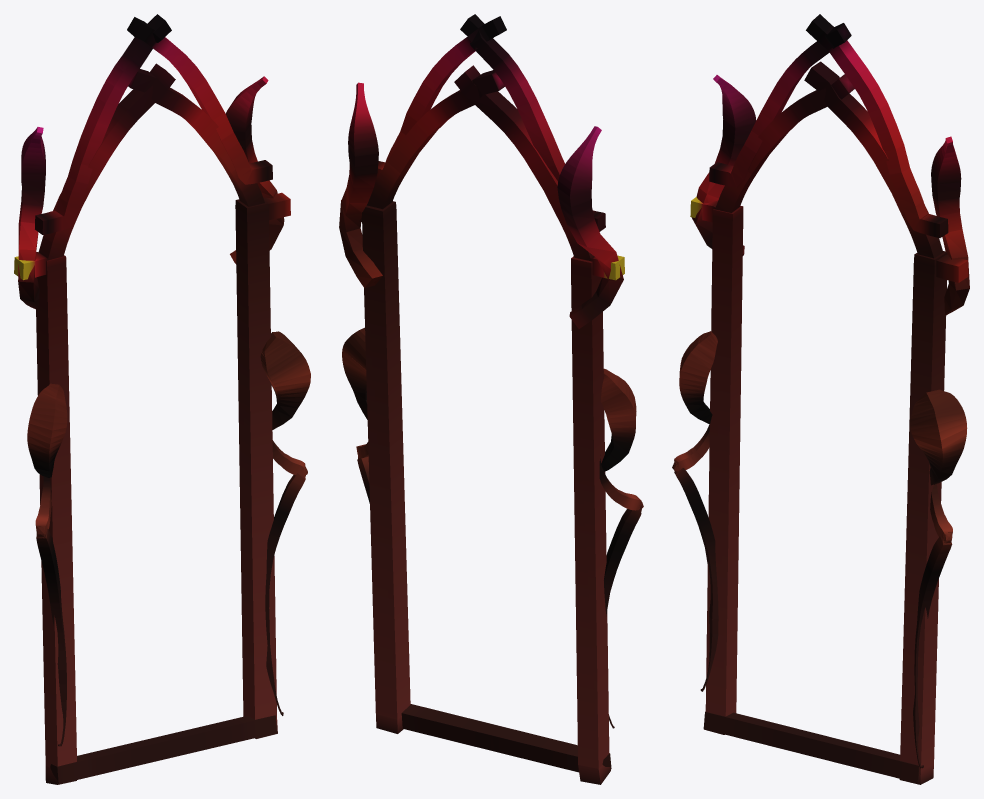
Rendered from Mirror_02.fbx.
The picture shows the model from 3 angles, left to right: view 1: azimuth 30°, elevation 25°; view 2: azimuth 150°, elevation 25°; view 3: azimuth 330°, elevation 25°; orthographic projection. The views are drawn at different scales.
Parts seen in each view (by area): view 1: NewLayer2; view 2: NewLayer2; view 3: NewLayer2.
Part boxes in pixels (<box>): NewLayer2: <box>14,14,310,784</box>; NewLayer2: <box>339,14,643,784</box>; NewLayer2: <box>672,14,969,784</box>.
Bounding box in the file's own units: 0.79 × 1.98 × 0.2451.
